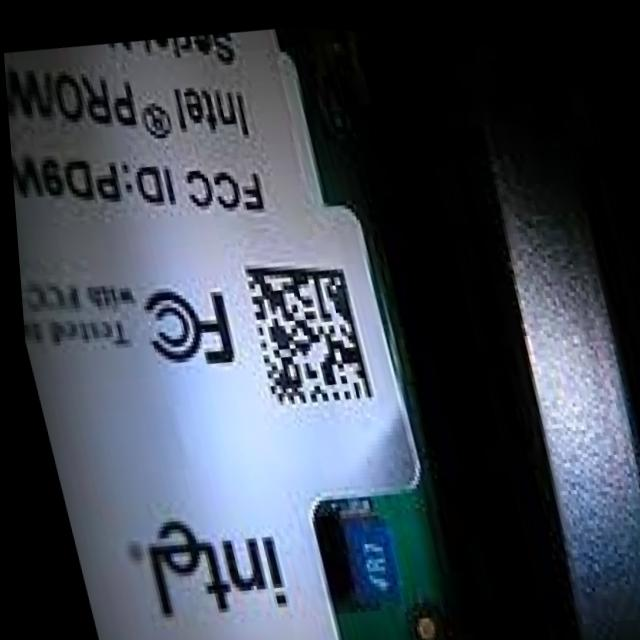datamatrix: (225, 234, 381, 425)
